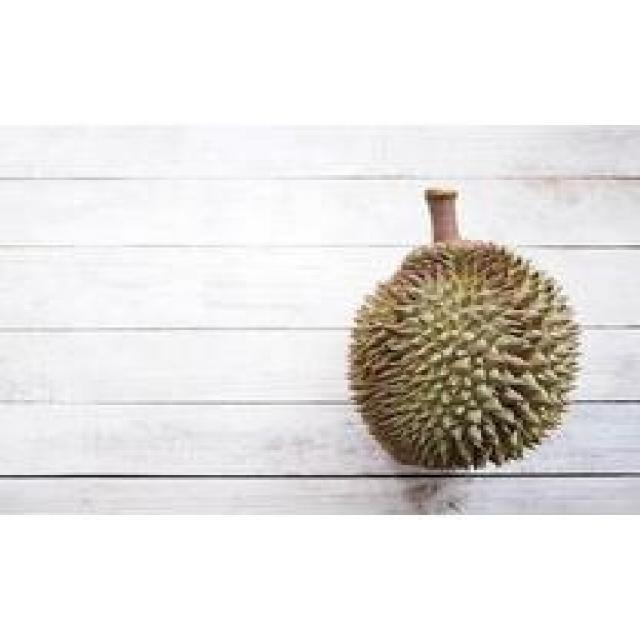fruit: (341, 233, 594, 475)
